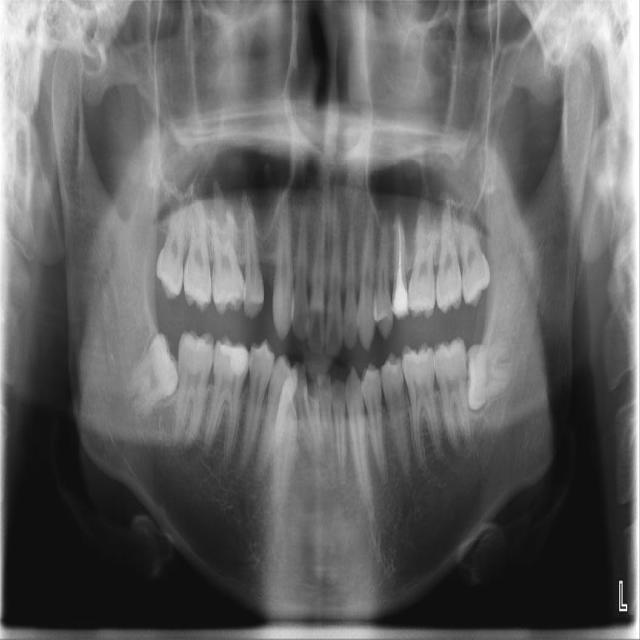Filling: (217, 343, 250, 375), (391, 282, 409, 320)
Missing teeth: (261, 263, 277, 328)
Root Canal Treatment: (397, 221, 403, 283)
impacted tooth: (118, 332, 184, 416), (463, 333, 524, 410)
